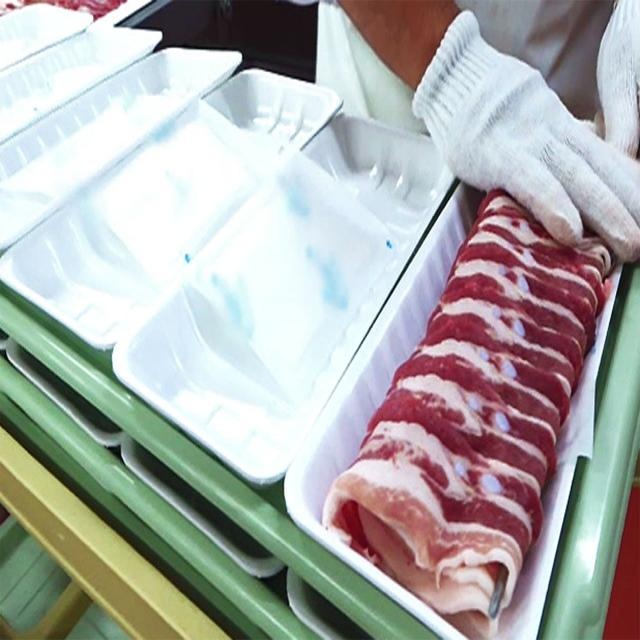pork: (331, 184, 605, 640)
